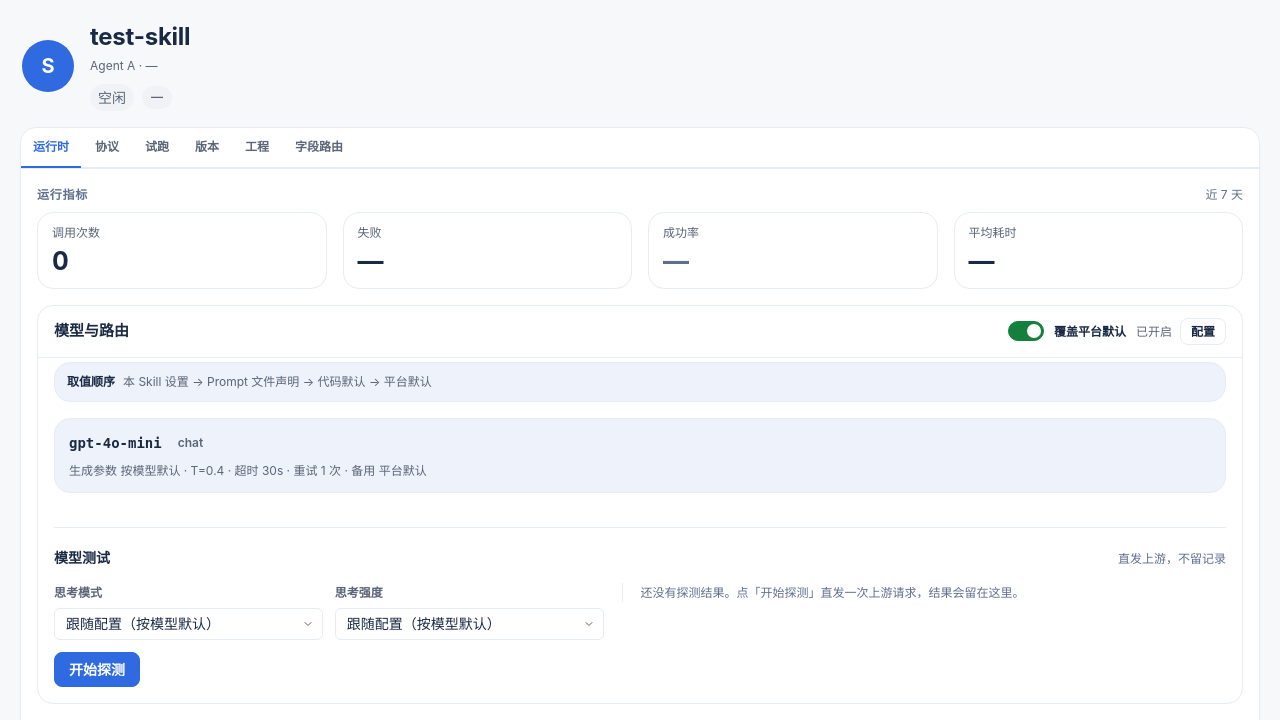
Test: SkillDetail 设计能力平铺：只读区块就地渲染 › 试跑 tab：执行链路渲染逐步明细（OK/ERR + 步骤名 + ms）
Click the tab with class "mk-subtab" showing "试跑".
click(157, 148)  # box x1=133 y1=128 x2=181 y2=168
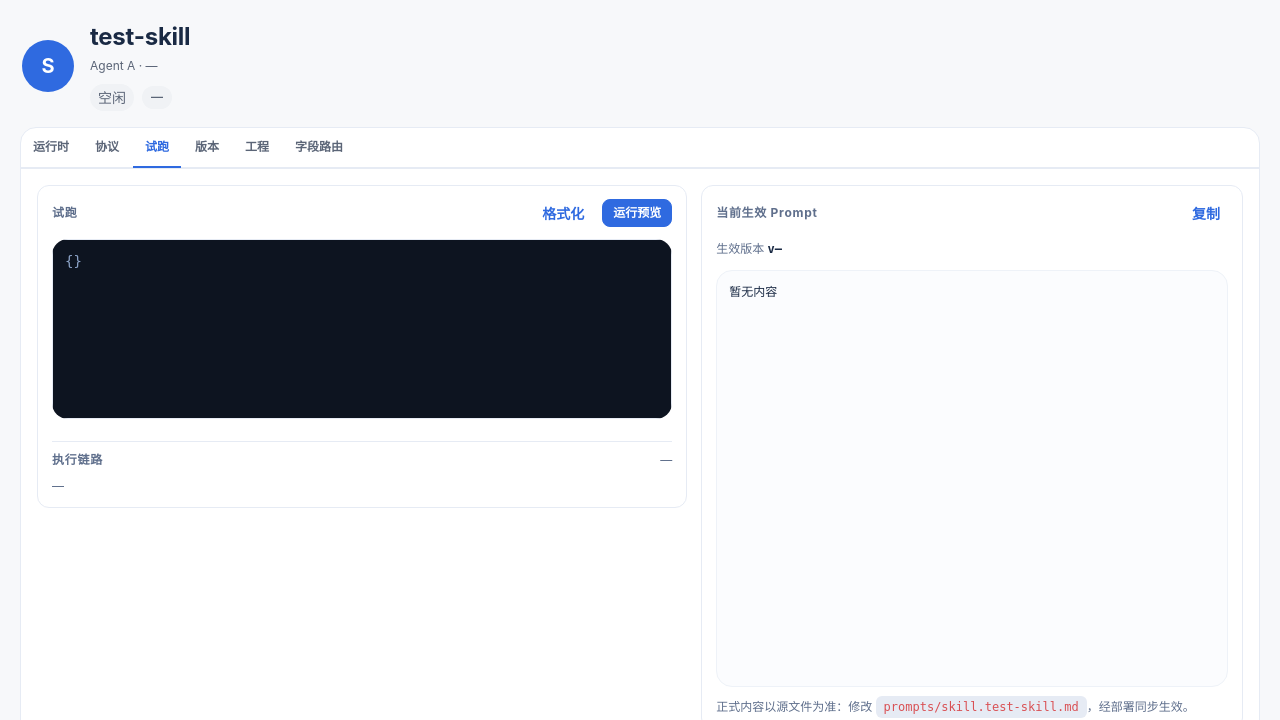
Result: the element with class "sdp-steps" is shown at x1=52 y1=441 x2=672 y2=495
Result: the heading "执行链路" is shown at x1=52 y1=450 x2=103 y2=470
Click the button "运行预览".
click(637, 213)  # box x1=602 y1=199 x2=672 y2=227
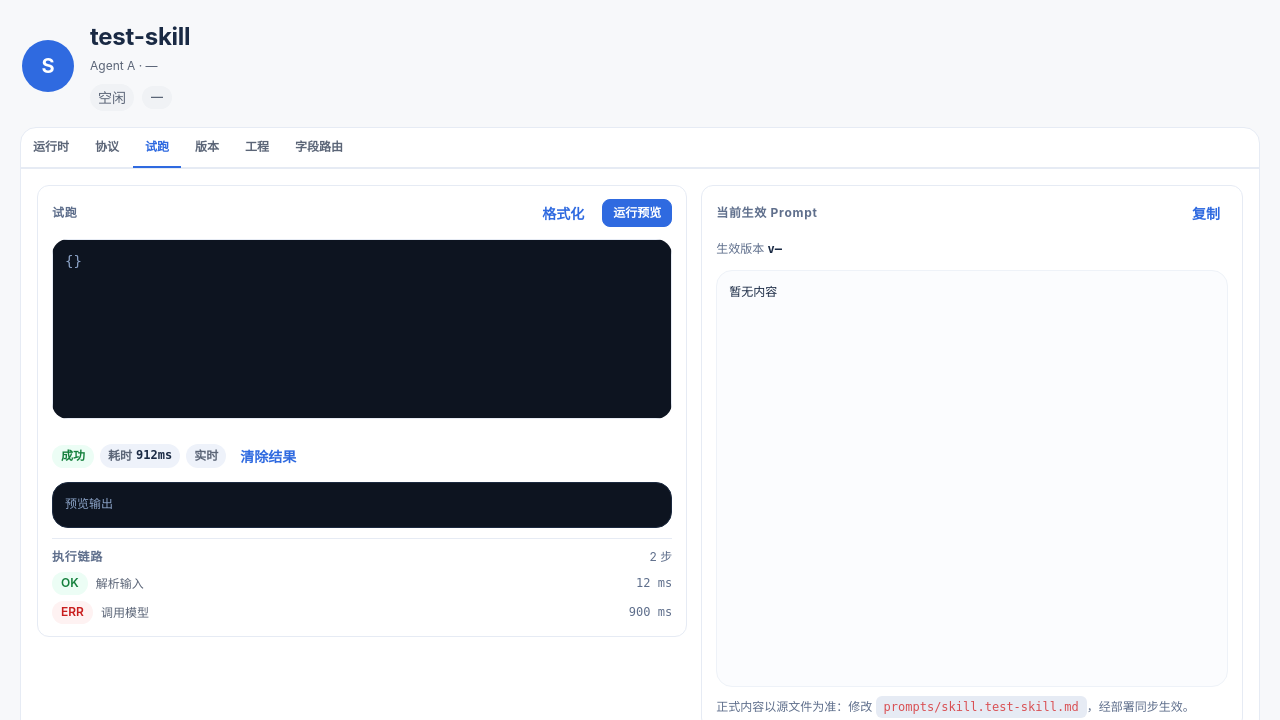
Result: the number of elements with class "sdp-step" is 2 at x1=52 y1=572 x2=672 y2=595; x1=52 y1=601 x2=672 y2=624
Result: the element with class "sdp-step" shows "OK" at x1=61 y1=576 x2=79 y2=590
Result: the element with class "sdp-step" shows "解析输入" at x1=96 y1=576 x2=144 y2=591
